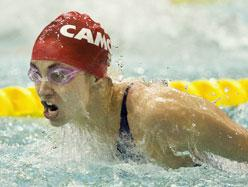human: (28, 9, 248, 170)
